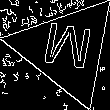M_S: (38, 20, 95, 79)
